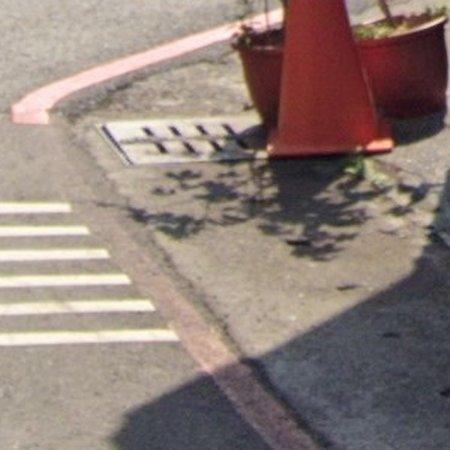crosswalks: (0, 201, 182, 344)
